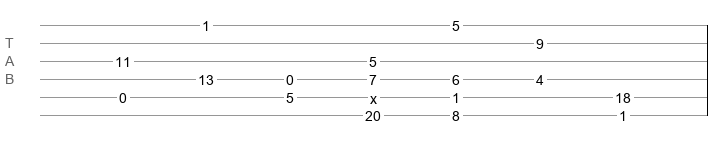0: (119, 90, 127, 100), (286, 72, 294, 82)
1: (202, 18, 210, 28), (452, 90, 460, 100), (619, 108, 627, 118)
11: (115, 54, 131, 64)
13: (198, 72, 214, 82)
18: (615, 90, 631, 100)
20: (365, 108, 381, 118)
4: (536, 72, 544, 82)
5: (286, 90, 294, 100), (369, 54, 377, 64), (452, 18, 460, 28)
6: (452, 72, 460, 82)
7: (369, 72, 377, 82)
8: (452, 108, 460, 118)
9: (536, 36, 544, 46)
x: (370, 91, 377, 99)
